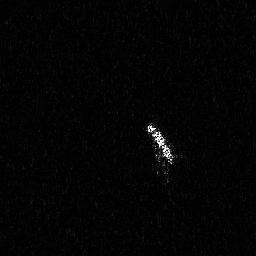ship: (145, 120, 177, 186)
